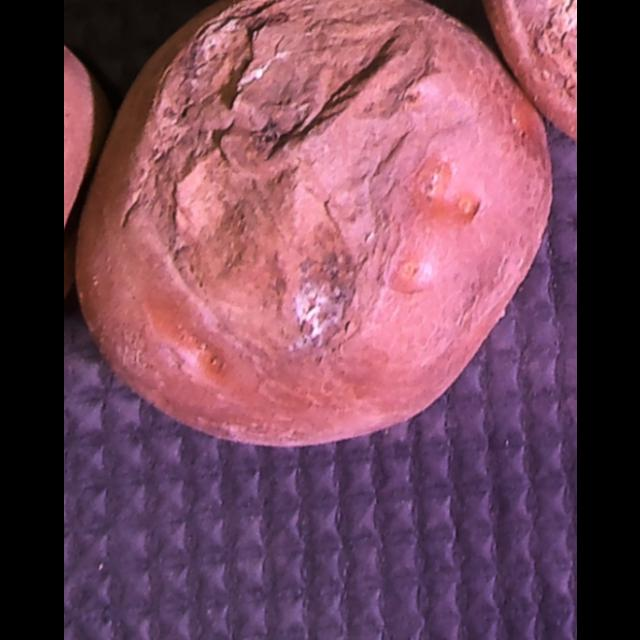Damaged potato: (63, 0, 554, 458)
